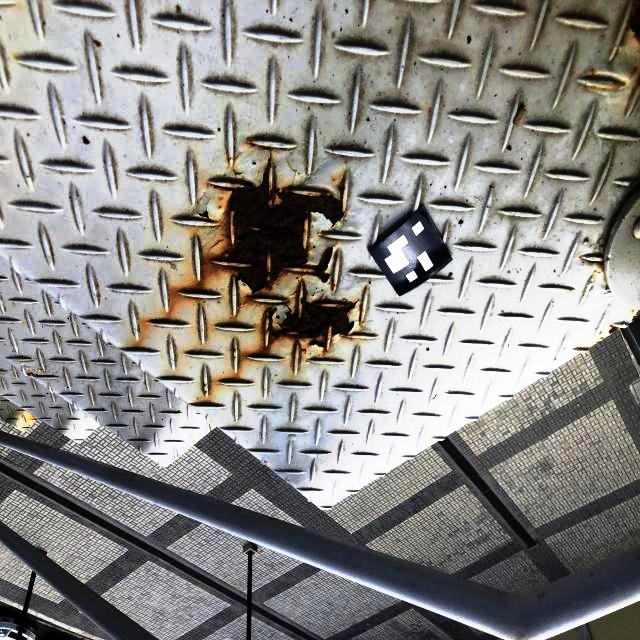Corrosion: (202, 160, 349, 299), (266, 301, 355, 347), (629, 0, 640, 45), (197, 209, 212, 219), (607, 326, 620, 335), (632, 315, 640, 321)
